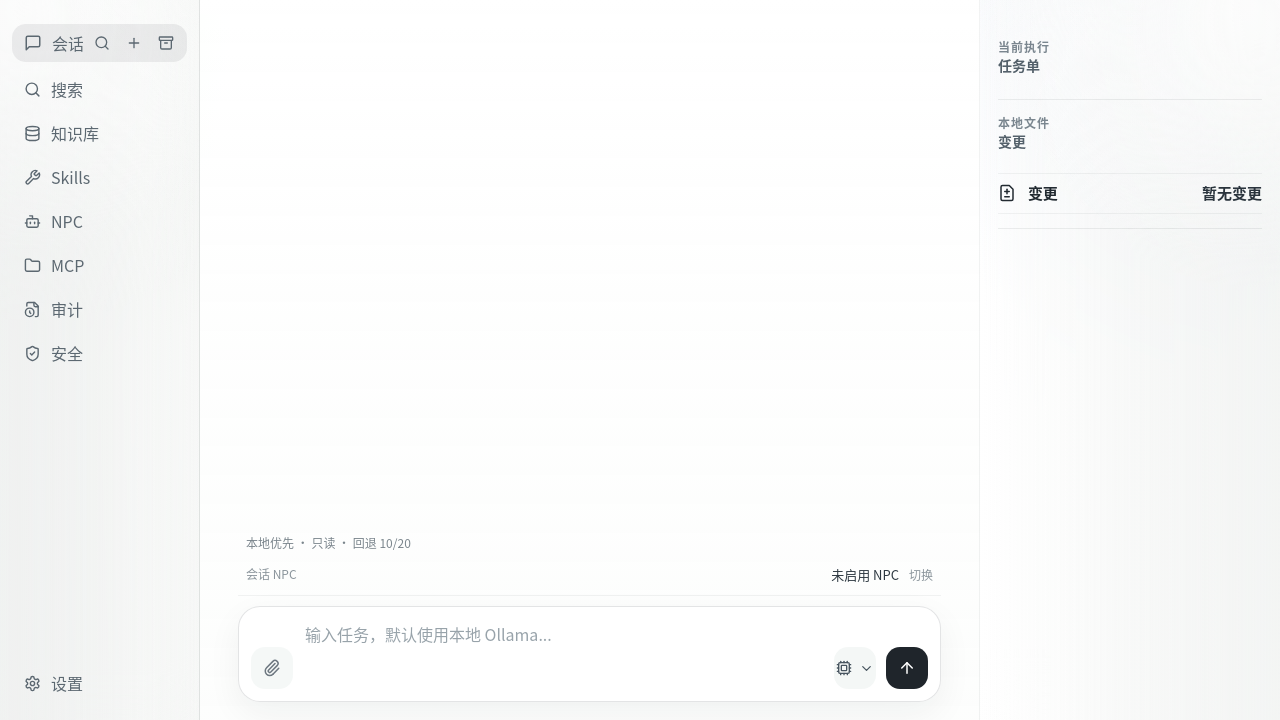
App chat search context › records selected Ollama model and bounded search context in the audit log
expect the button named "选择模型：qwen3.6:35b" is shown: met, box [834, 647, 876, 689]
Type "软件体系设计的享元模式" into the text box labelled "输入任务" at {"x": 562, "y": 654}, box [303, 619, 822, 689]
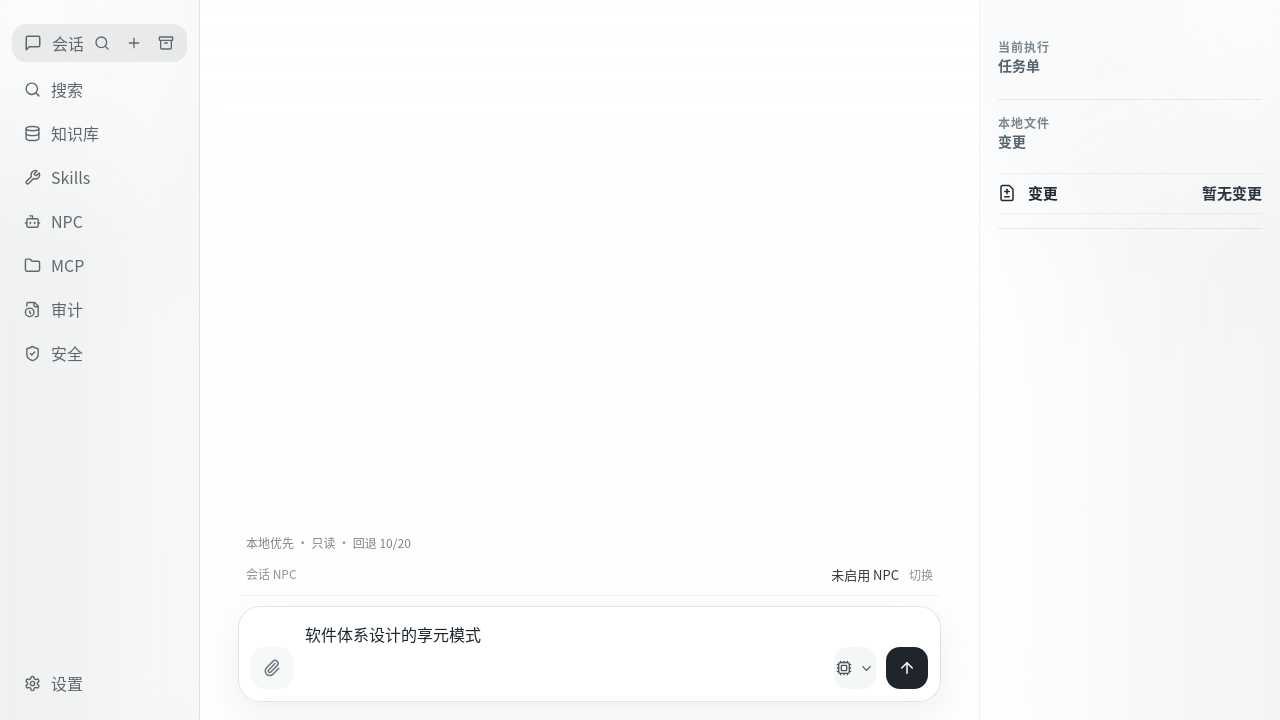
Click the button named "发送" at {"x": 907, "y": 668}, box [886, 647, 928, 689]
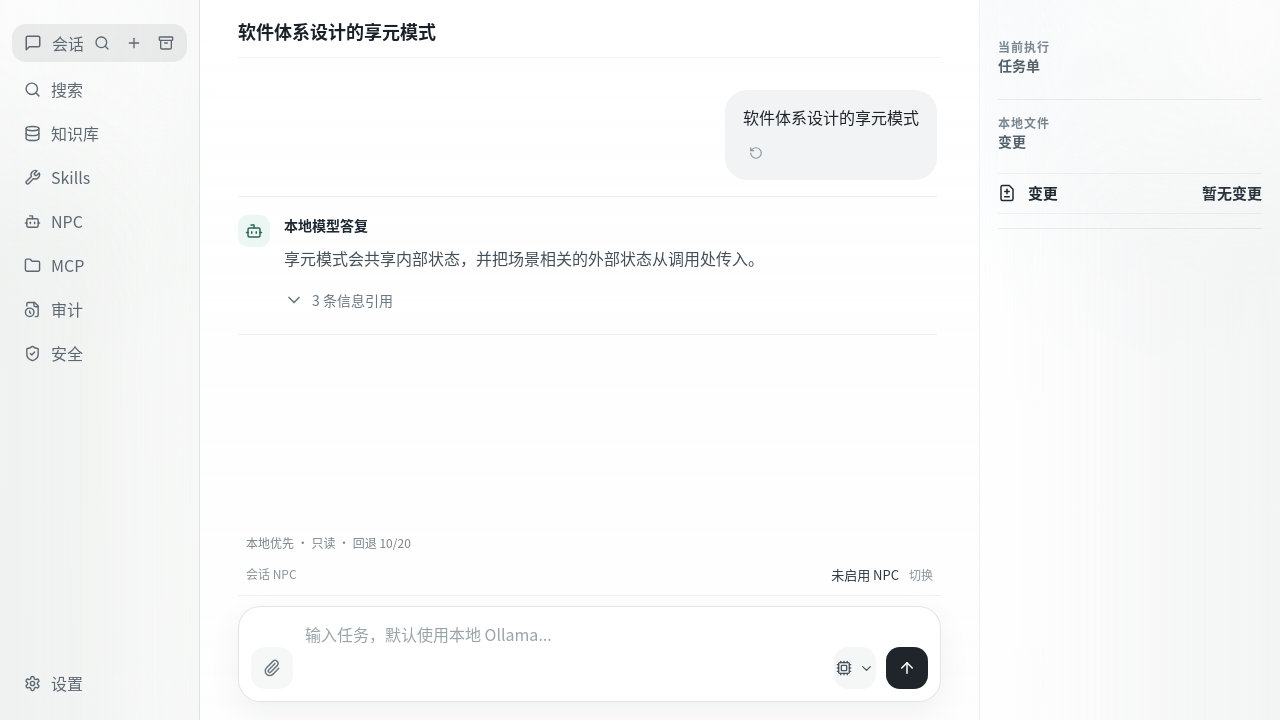
expect the text "享元模式会共享内部状态，并把场景相关的外部状态从调用处传入。" is shown: met, box [284, 246, 764, 270]
Click the button "审计" at {"x": 100, "y": 309}, box [12, 290, 187, 328]
(page scrolled)
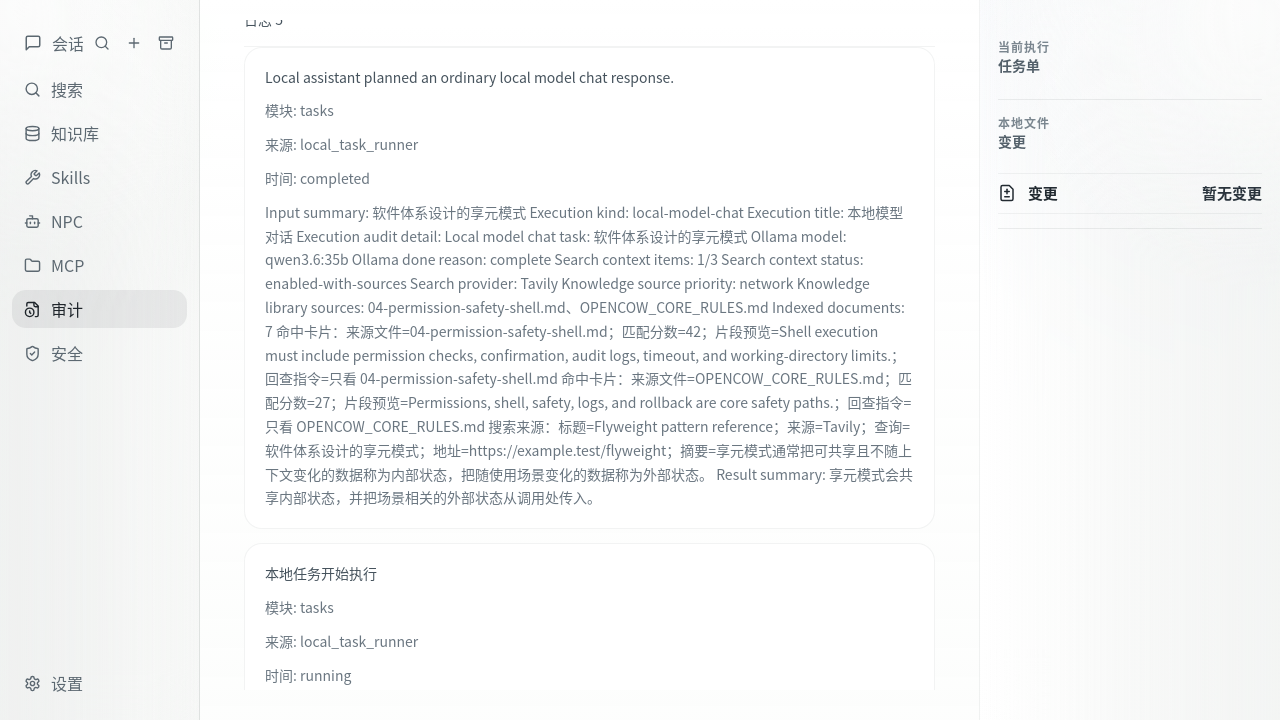
expect the text "Search provider: Tavily" is shown: met, box [265, 202, 913, 507]
